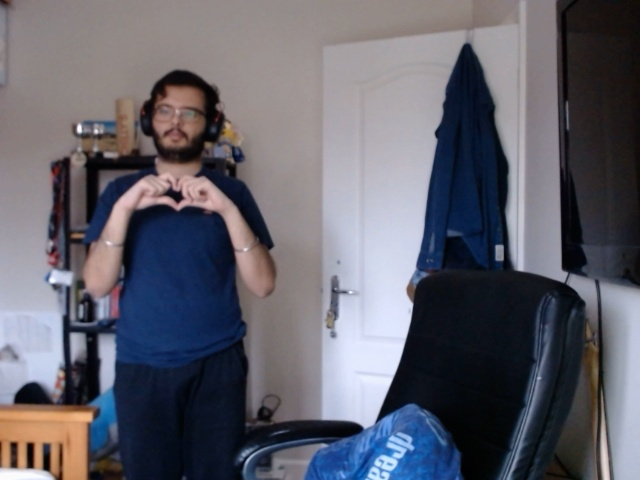Heart: (151, 168, 211, 213)
